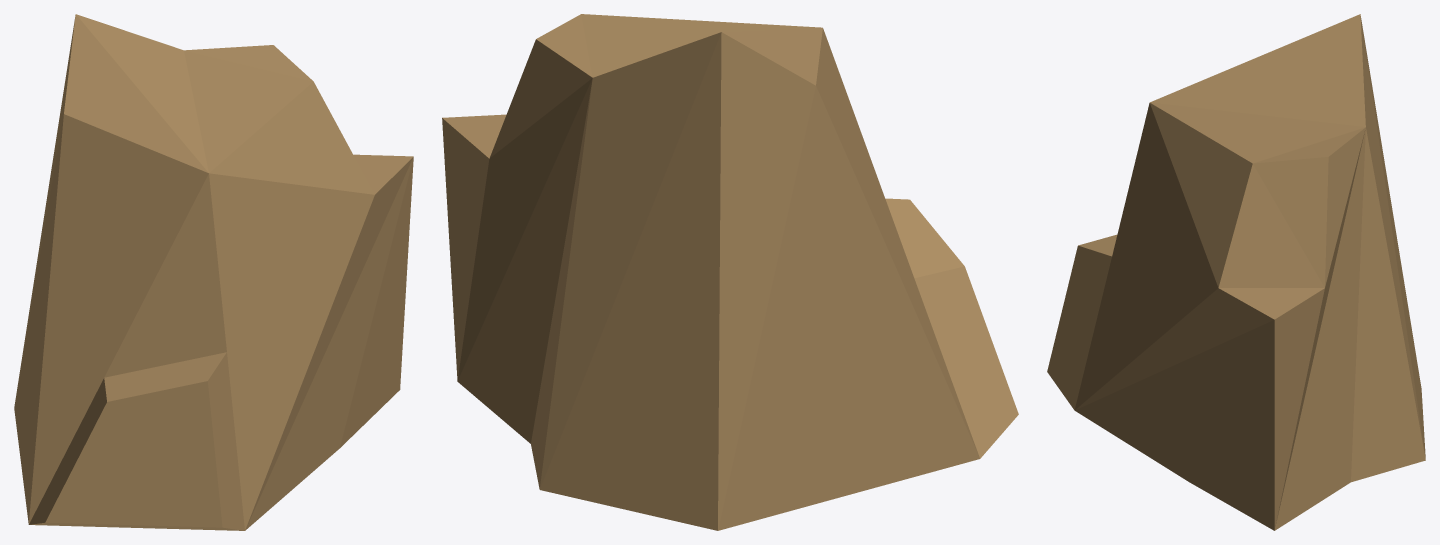
The model's file is Rock_Medium.fbx.
3 views of the same model, side by side, from view 1: azimuth 30°, elevation 25°; view 2: azimuth 150°, elevation 25°; view 3: azimuth 270°, elevation 25° (orthographic). The views are drawn at different scales.
Visible parts, largest first — view 1: Rock_Chunk_01; view 2: Rock_Chunk_01; view 3: Rock_Chunk_01.
Boxes of the visible parts, x1,y1,x2,y2 form: Rock_Chunk_01: [14, 14, 413, 530]; Rock_Chunk_01: [442, 14, 1018, 530]; Rock_Chunk_01: [1047, 14, 1425, 530].
Size of the model in its own units: 2.63 by 2.35 by 2.08.
